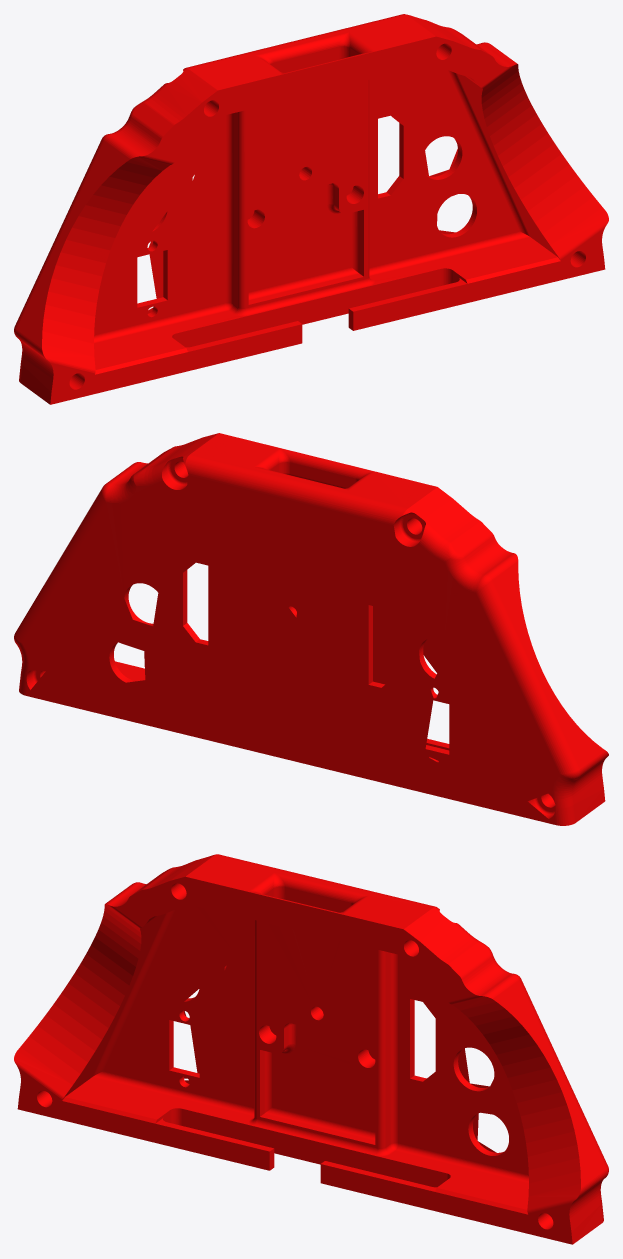
Rendered from torso_1_top_back_1.glb.
The picture shows the model from 3 angles, top to bottom: view 1: azimuth 30°, elevation 25°; view 2: azimuth 150°, elevation 25°; view 3: azimuth 330°, elevation 25°; orthographic projection.
Visible parts, largest first — view 1: torso_1_top_back_1.obj; view 2: torso_1_top_back_1.obj; view 3: torso_1_top_back_1.obj.
Boxes of the visible parts, left/top/right/bottom form: torso_1_top_back_1.obj: left=14, top=14, right=608, bottom=404; torso_1_top_back_1.obj: left=14, top=433, right=608, bottom=825; torso_1_top_back_1.obj: left=14, top=854, right=608, bottom=1244.
Bounding box in the file's own units: 0.2223 × 0.103 × 0.025.
